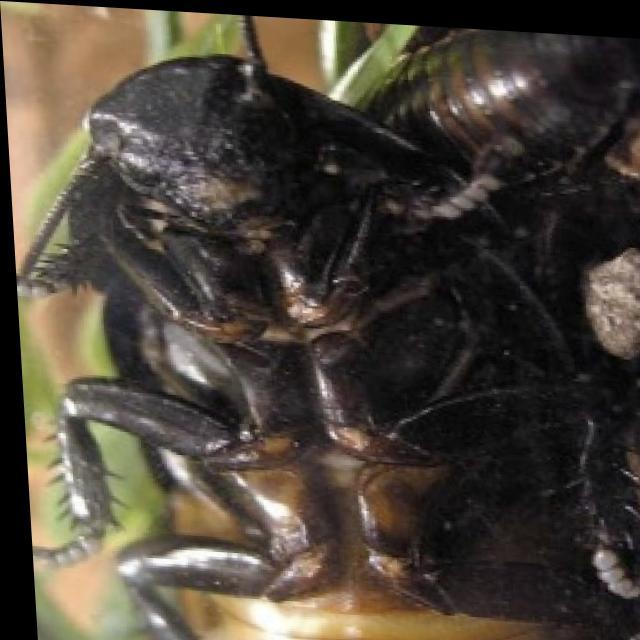cockroach: (17, 19, 636, 635)
